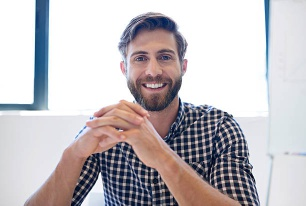male: (118, 17, 193, 112)
